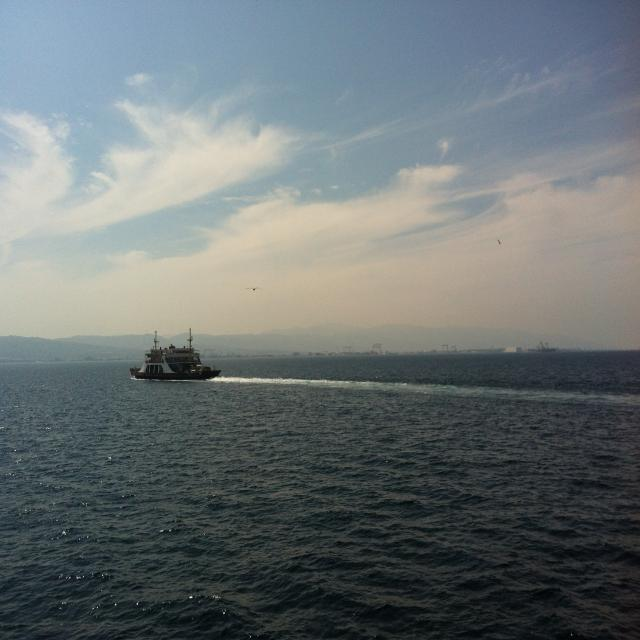houseboat: (126, 328, 218, 384)
